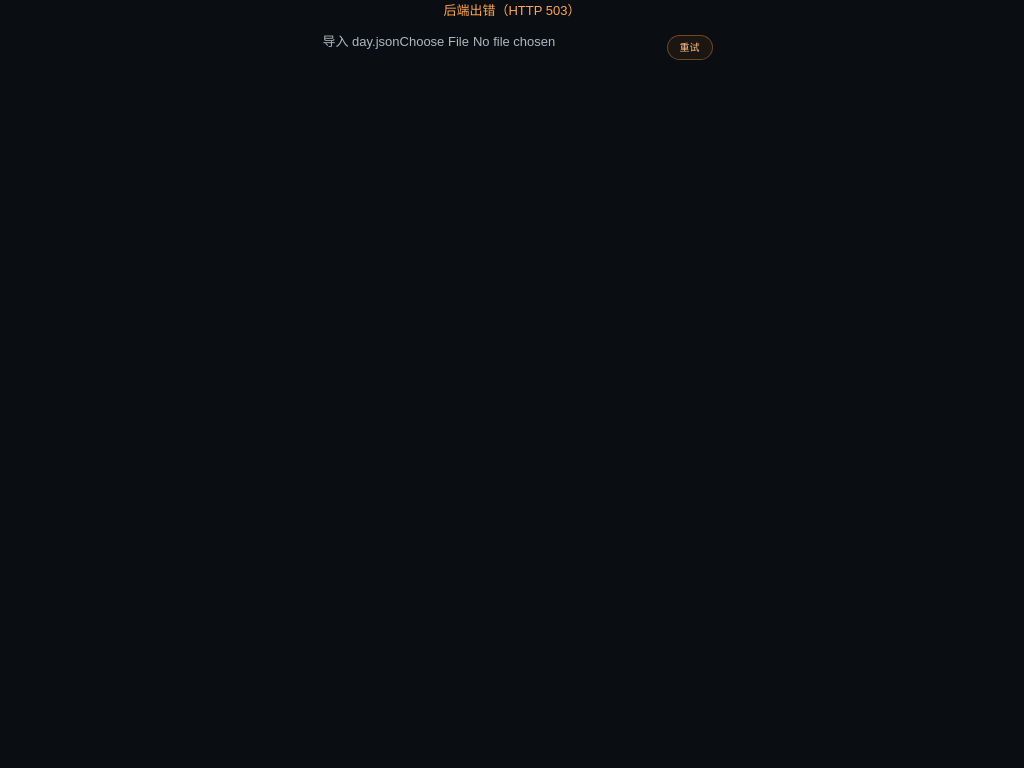
Test: day.json 5xx 后点重试能重新加载数据
This screenshot has width=1024, height=768.
Click the button with class "retrybtn" at (690,47), box [666, 35, 712, 60]
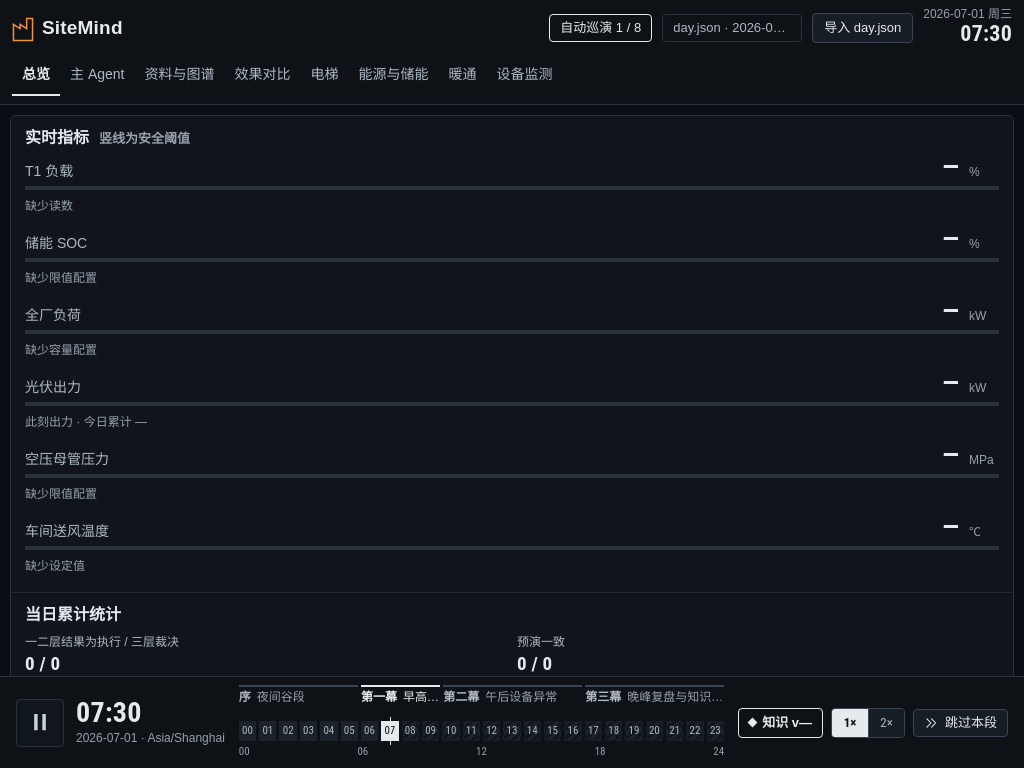
Now the text with class "source" reads "day.json · 2026-07-01", box [673, 20, 799, 35]
